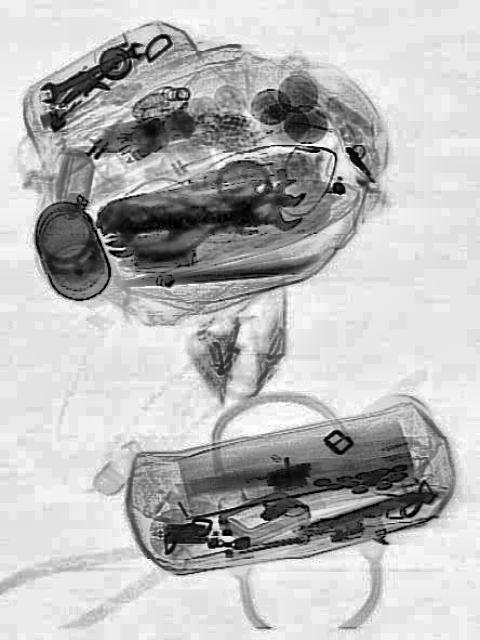Wrench: (35, 34, 146, 106), (210, 190, 302, 238), (232, 172, 308, 220)
